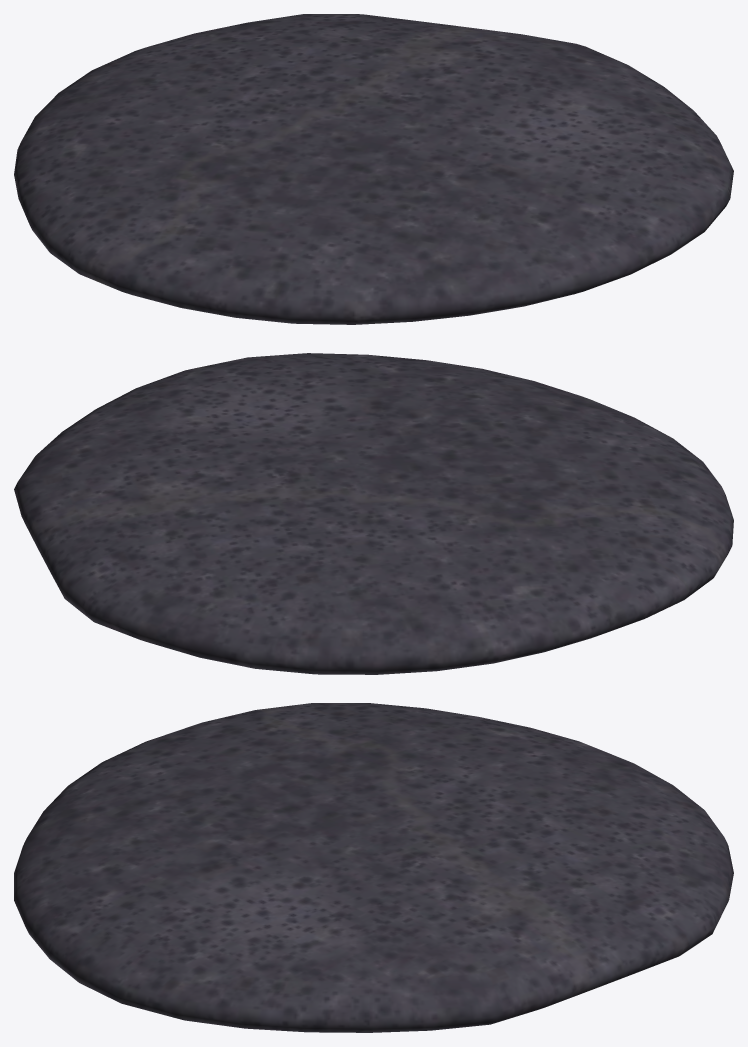
The model's file is heavy_basalt_08.glb.
The picture shows the model from 3 angles, top to bottom: view 1: azimuth 30°, elevation 25°; view 2: azimuth 150°, elevation 25°; view 3: azimuth 270°, elevation 25°; orthographic projection. The views are drawn at different scales.
Visible parts, largest first — view 1: heavy_basalt_08; view 2: heavy_basalt_08; view 3: heavy_basalt_08.
Part boxes in pixels (x1=…): heavy_basalt_08: x1=14, y1=14, x2=733, y2=324; heavy_basalt_08: x1=14, y1=353, x2=733, y2=674; heavy_basalt_08: x1=14, y1=703, x2=733, y2=1032.
Size of the model in its own units: 0.0839 by 0.0108 by 0.0815.
1 material, 1 textured.
